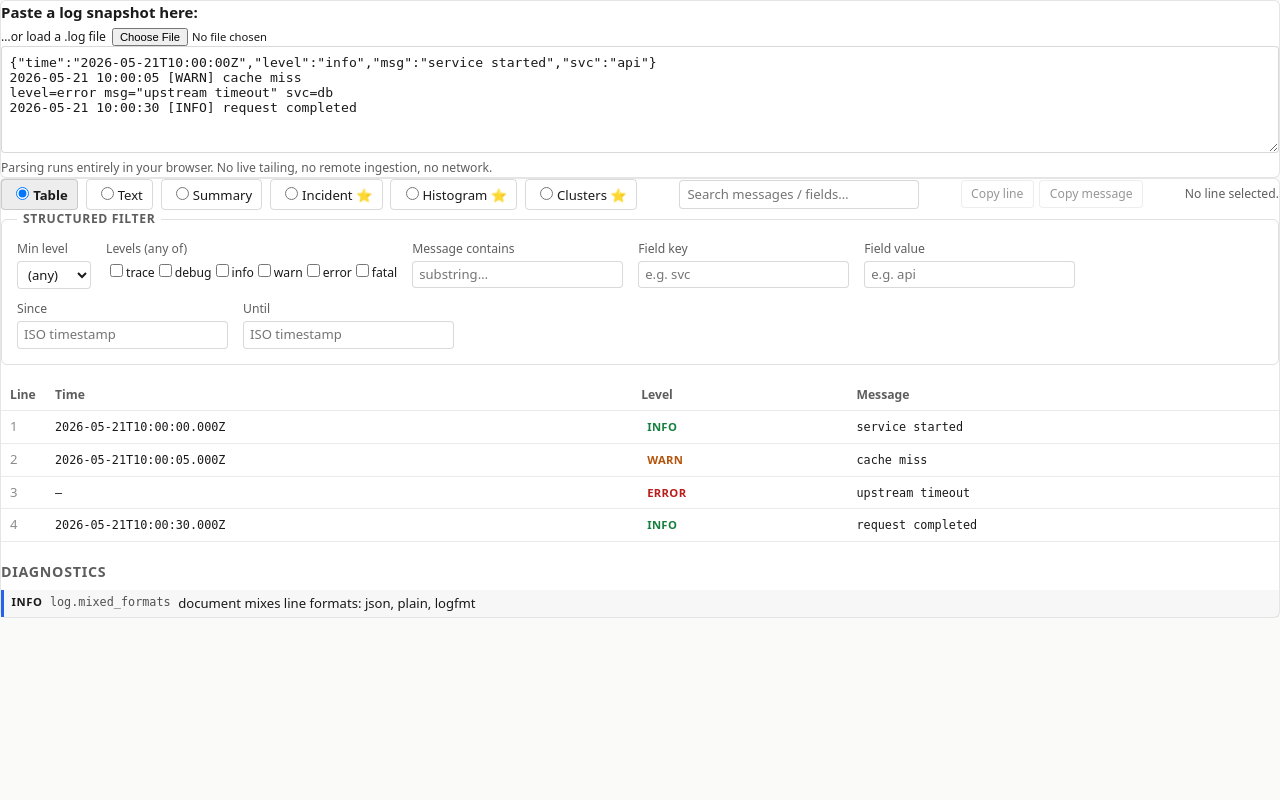
Test: LogsApp integration › switches to the summary view and renders counts + histogram
Click the radio button labelled "Summary" at (183, 193), box [176, 186, 189, 200]
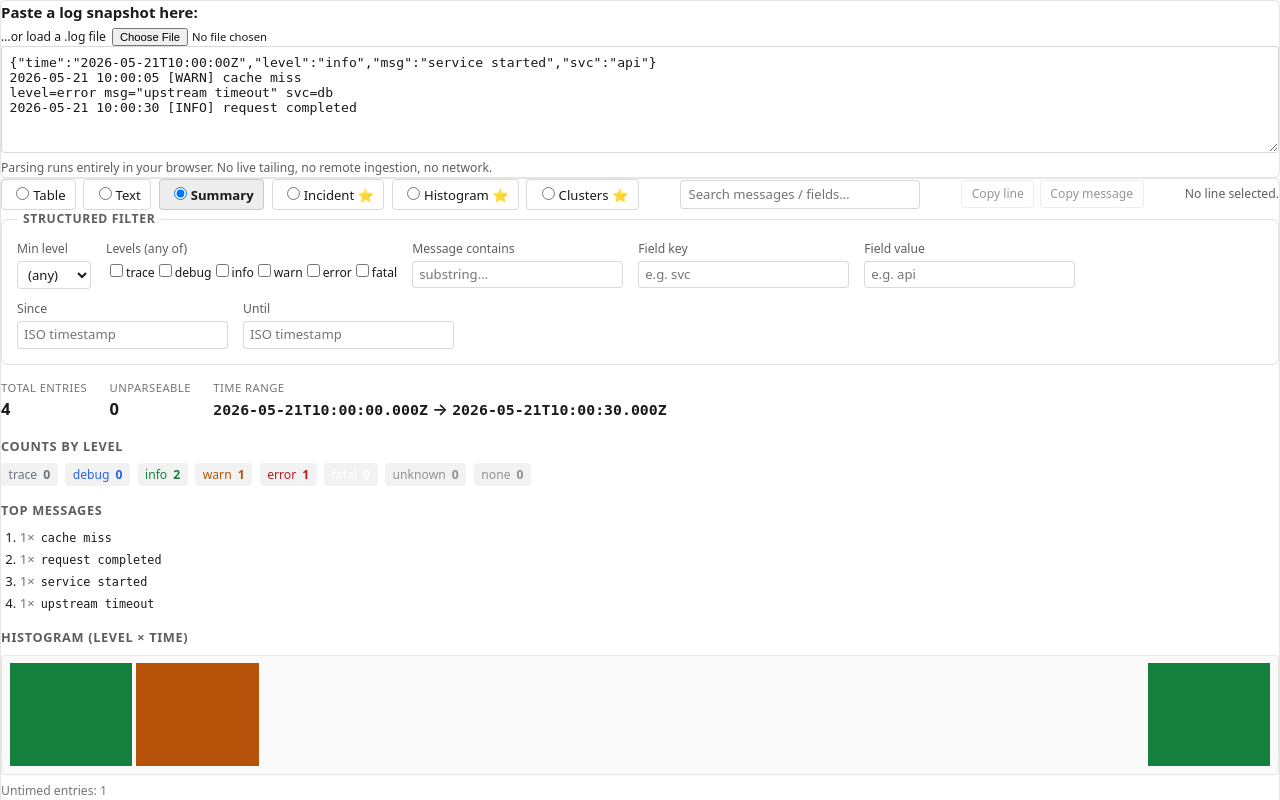
Check: the text with test id "log-summary-total" reads "4", box [1, 397, 10, 420]
Check: the element named "NekoLogs summary view" is shown, box [1, 380, 1279, 799]
Check: the picture with test id "log-histogram" is shown, box [1, 655, 1279, 775]
